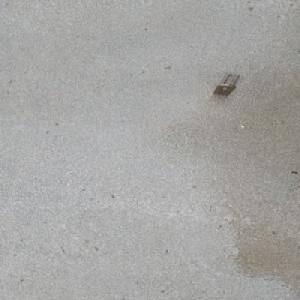MetalPart: (209, 72, 239, 96)
